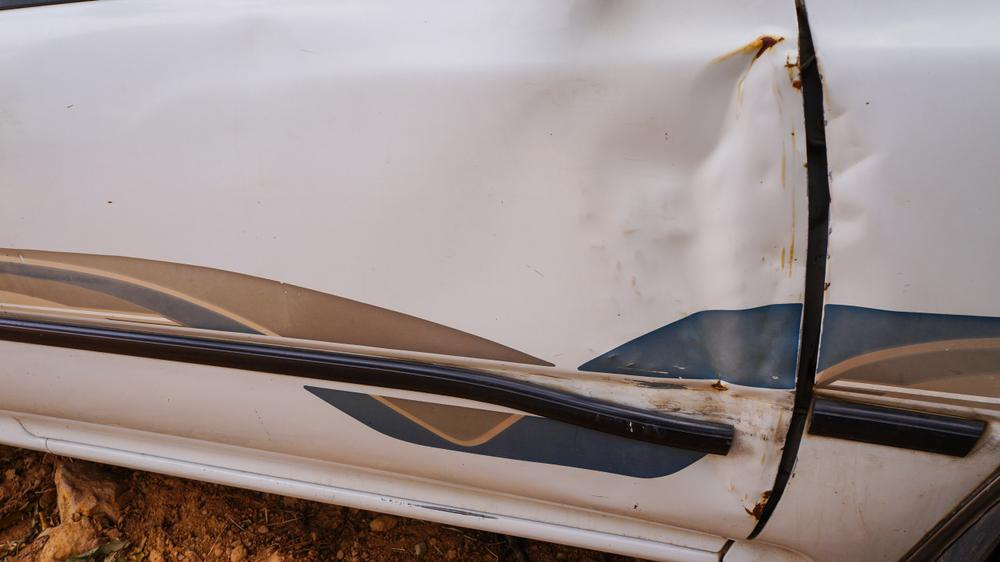dent: (381, 46, 793, 435), (822, 90, 878, 259)
